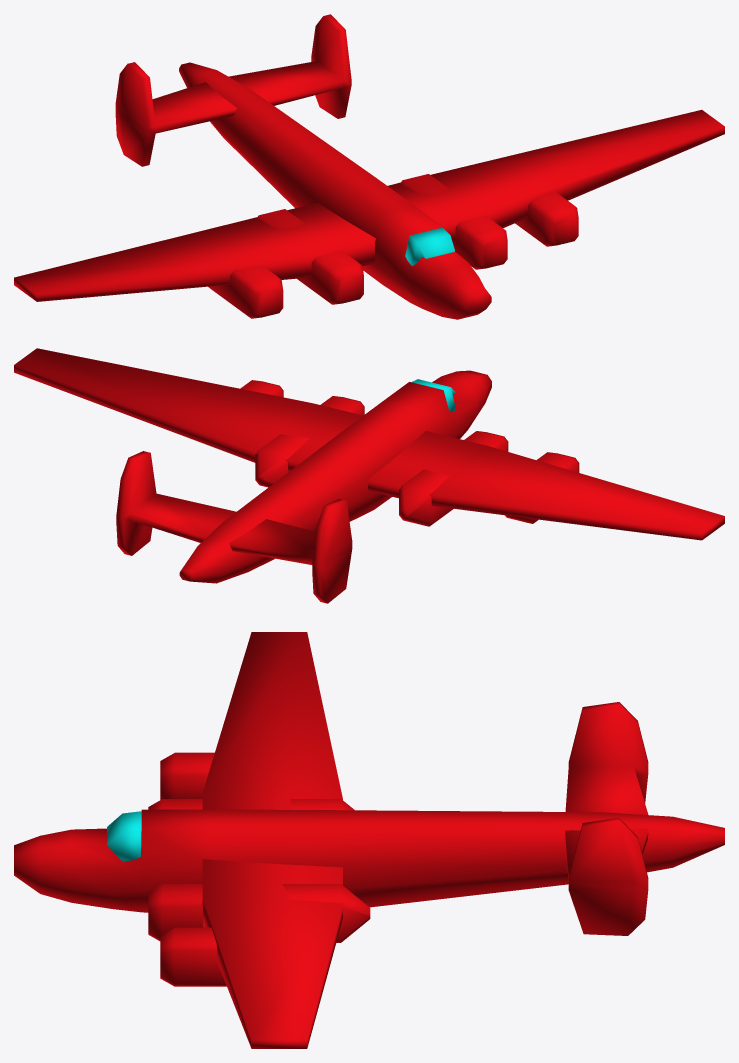
Rendered from bomber.glb.
The picture shows the model from 3 angles, top to bottom: view 1: azimuth 30°, elevation 25°; view 2: azimuth 150°, elevation 25°; view 3: azimuth 270°, elevation 25°; orthographic projection. The views are drawn at different scales.
Visible parts, largest first — view 1: B Wing, B Fuselage, B Tail, B R Engine, B L Engine, B Cockpit; view 2: B Wing, B Fuselage, B Tail, B R Engine, B L Engine; view 3: B Fuselage, B Wing, B Tail, B L Engine, B R Engine, B Cockpit.
Boxes of the visible parts, <box> form: B Wing: <box>14,110,724,301</box>; B Fuselage: <box>179,62,491,319</box>; B Tail: <box>115,14,351,166</box>; B R Engine: <box>208,209,363,318</box>; B L Engine: <box>400,174,578,269</box>; B Cockpit: <box>405,227,454,265</box>; B Wing: <box>14,348,724,540</box>; B Fuselage: <box>179,370,491,583</box>; B Tail: <box>116,451,352,603</box>; B R Engine: <box>399,431,579,526</box>; B L Engine: <box>240,380,364,487</box>; B Fuselage: <box>14,809,724,912</box>; B Wing: <box>202,632,342,1048</box>; B Tail: <box>565,702,648,935</box>; B L Engine: <box>148,884,370,986</box>; B R Engine: <box>148,752,354,810</box>; B Cockpit: <box>107,811,141,861</box>.
Bounding box in the file's own units: 40.26 × 6.64 × 29.68.
